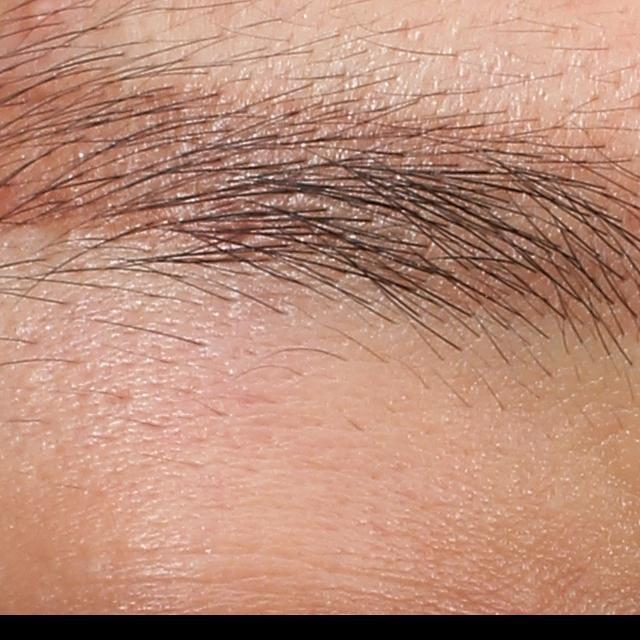papule: (24, 5, 59, 36)
